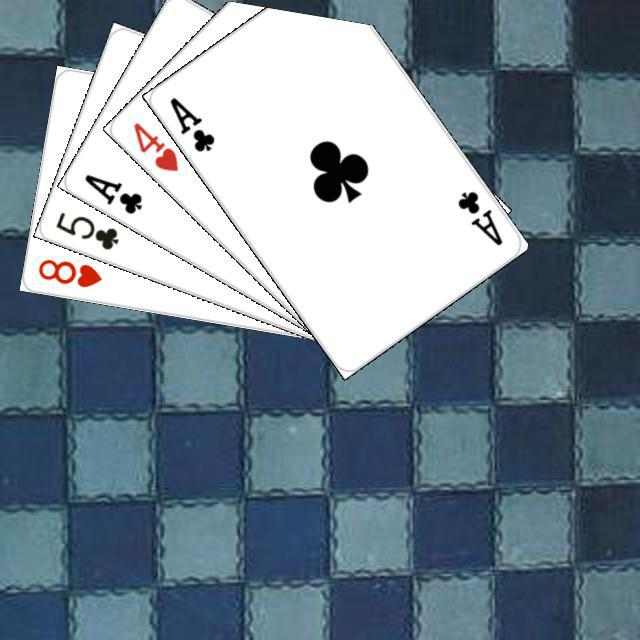4h: (128, 117, 180, 173)
5c: (50, 207, 121, 252)
8h: (33, 254, 103, 289)
Ac: (452, 185, 505, 248), (164, 92, 217, 154), (79, 168, 145, 216)
